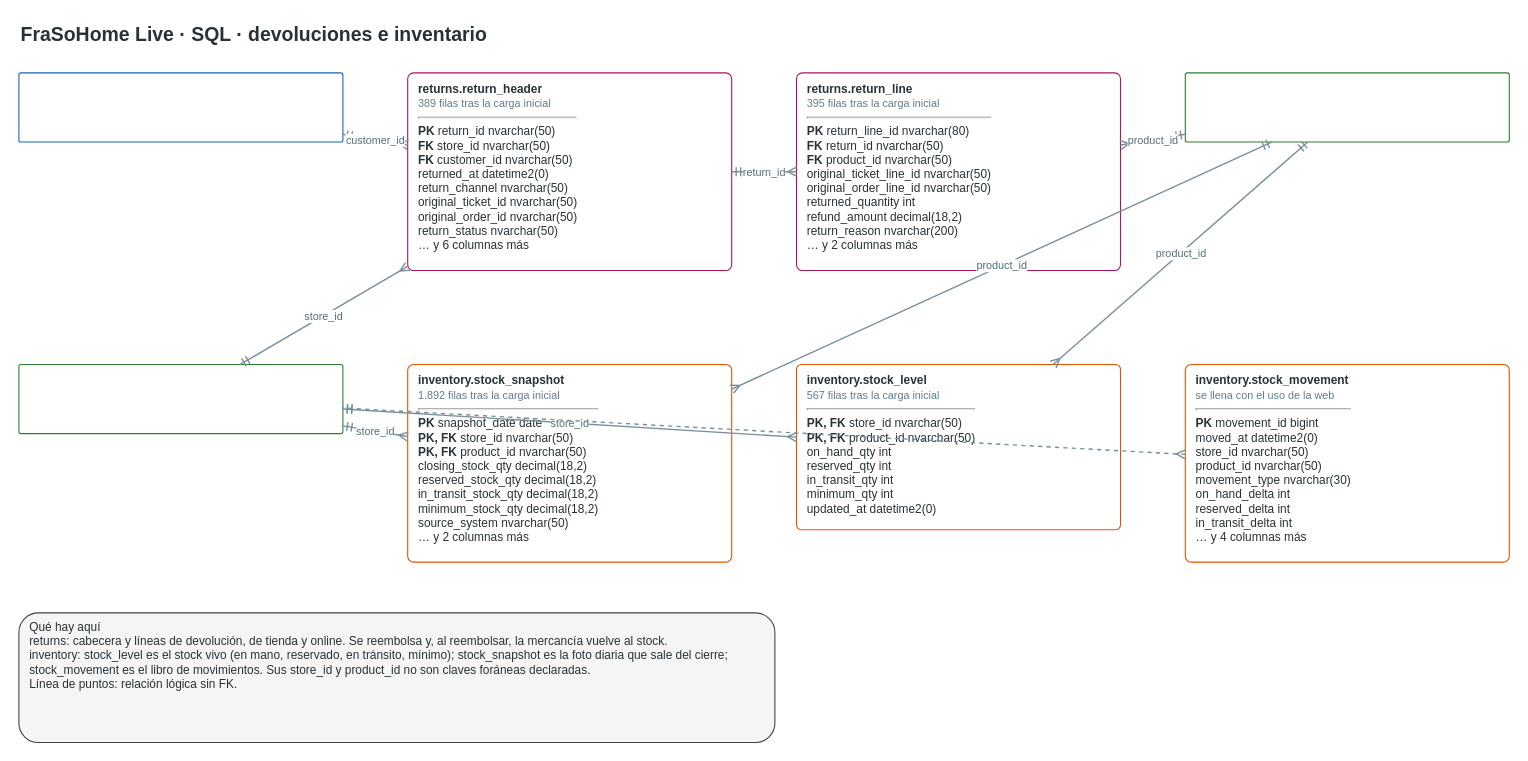
Some shapes in this 1528 by 761 pixel diagram are drawn without their labels. Each missing label, with the centre of its shape:
"catalog.product PK product_id nvarchar(50) catálogo (ver ventas)" belongs at pixel 1346 107.
"crm.customer PK customer_id nvarchar(50) clientes (ver ventas)" belongs at pixel 180 107.
"store.store PK store_id nvarchar(50) tiendas (ver ventas)" belongs at pixel 180 398.
